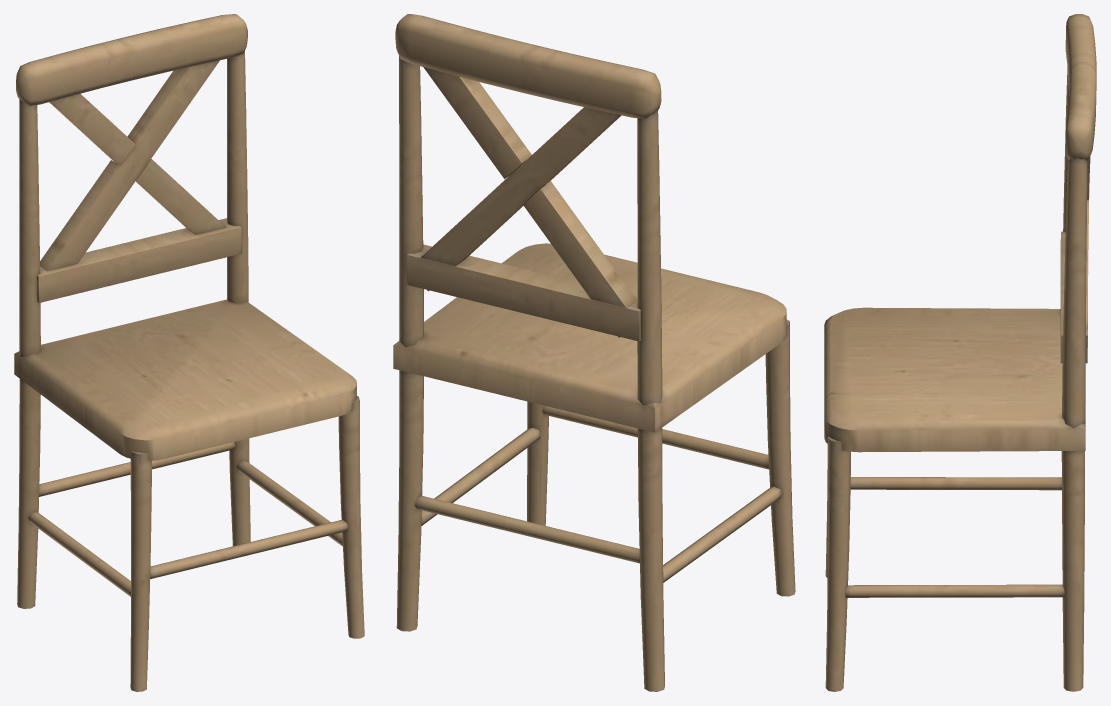
The model's file is crossback_chair.glb.
The picture shows the model from 3 angles, left to right: view 1: azimuth 30°, elevation 25°; view 2: azimuth 150°, elevation 25°; view 3: azimuth 270°, elevation 25°; orthographic projection. The views are drawn at different scales.
Parts seen in each view (by area): view 1: crossback_chair; view 2: crossback_chair; view 3: crossback_chair.
Part boxes in pixels (<box>): crossback_chair: <box>14,14,364,691</box>; crossback_chair: <box>393,14,795,691</box>; crossback_chair: <box>824,14,1096,691</box>.
Bounding box in the file's own units: 0.46 × 1.01 × 0.4429.
1 material, 1 textured.
